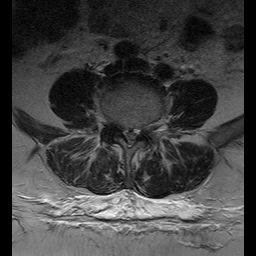CCS_stenosis: (126, 122, 133, 152)
LFS_stenosis: (140, 119, 148, 142)
LLS_stenosis: (133, 122, 140, 147)
RFS_severe_stenosis: (111, 114, 119, 138)
RLS_severe_stenosis: (119, 120, 126, 144)
